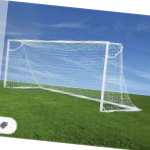goals: (2, 37, 144, 116)
